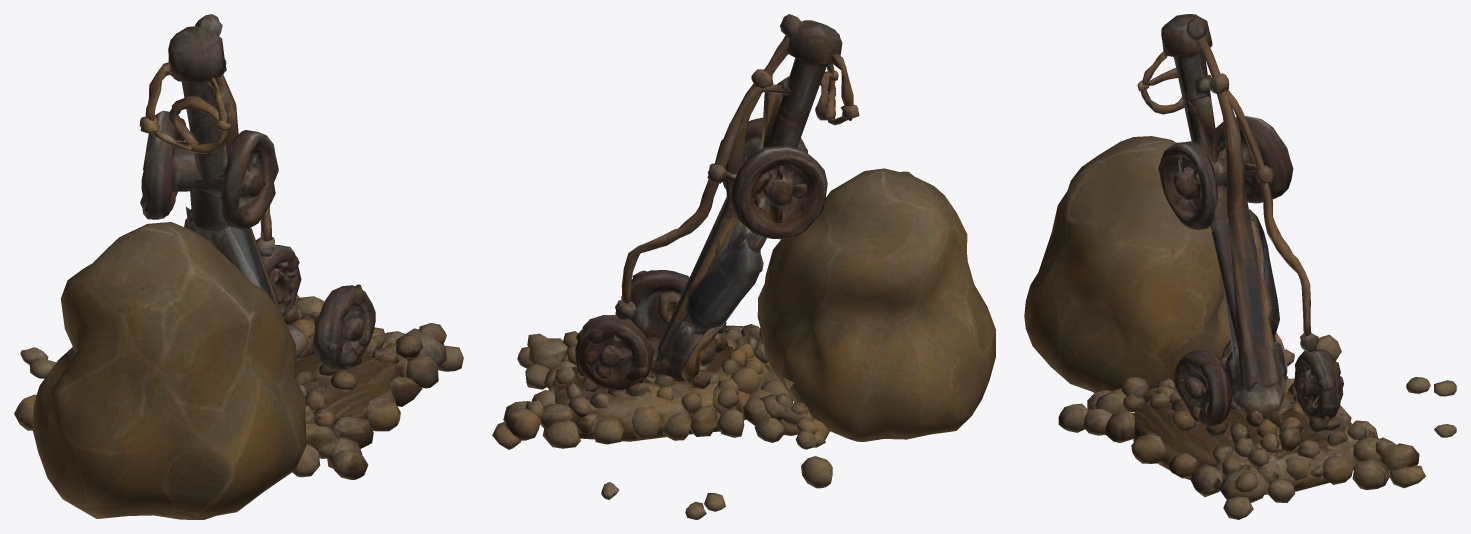
File: mt_marco_broca.glb
3 views of the same model, side by side, from view 1: azimuth 30°, elevation 25°; view 2: azimuth 150°, elevation 25°; view 3: azimuth 270°, elevation 25° (orthographic). The views are drawn at different scales.
Parts seen in each view (by area): view 1: Mesh_0.001; view 2: Mesh_0.001; view 3: Mesh_0.001.
Part boxes in pixels (bbox=[...]): Mesh_0.001: bbox=[14, 14, 463, 519]; Mesh_0.001: bbox=[492, 14, 995, 519]; Mesh_0.001: bbox=[1024, 14, 1456, 519].
Bounding box in the file's own units: 0.2959 × 0.2793 × 0.2773.
1 material, 1 textured.
